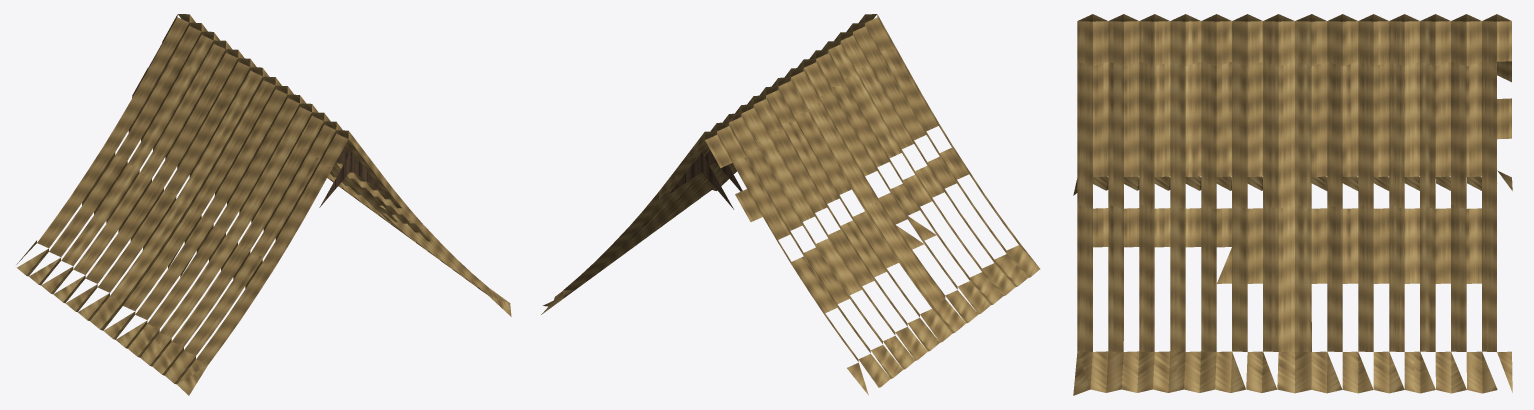
The model's file is Roof_Thatch_6x6_LOD1.gltf.
The picture shows the model from 3 angles, left to right: view 1: azimuth 30°, elevation 25°; view 2: azimuth 150°, elevation 25°; view 3: azimuth 270°, elevation 25°; orthographic projection. The views are drawn at different scales.
Visible parts, largest first — view 1: Roof_Thatch_6x6_LOD1; view 2: Roof_Thatch_6x6_LOD1; view 3: Roof_Thatch_6x6_LOD1.
Boxes of the visible parts, x1=… form: Roof_Thatch_6x6_LOD1: x1=16, y1=14, x2=511, y2=395; Roof_Thatch_6x6_LOD1: x1=541, y1=14, x2=1040, y2=395; Roof_Thatch_6x6_LOD1: x1=1073, y1=14, x2=1512, y2=395.
Size of the model in its own units: 8.25 by 5.17 by 7.59.
Materials: 2 (2 with a texture image).
